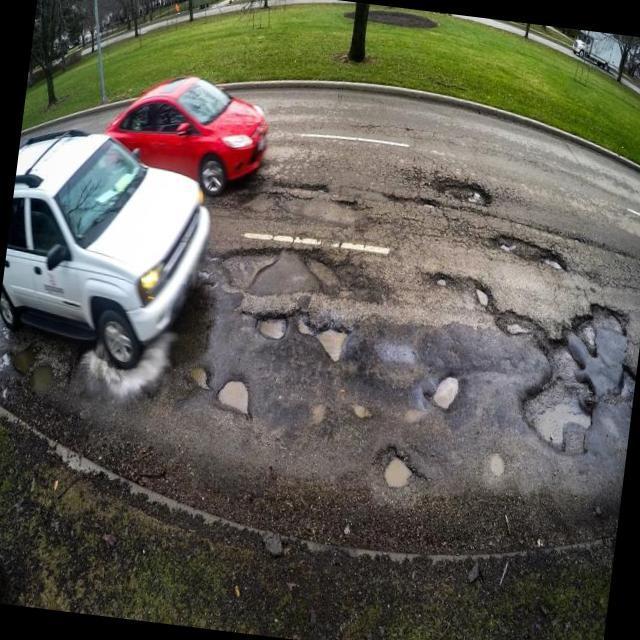Pothole: (492, 310, 635, 452), (227, 231, 348, 359), (402, 337, 468, 422), (491, 229, 569, 284), (82, 349, 139, 396), (426, 174, 488, 205), (12, 347, 53, 391), (375, 335, 417, 368), (219, 380, 249, 414), (385, 452, 414, 486), (461, 280, 493, 310), (429, 271, 456, 288), (490, 452, 505, 475), (192, 366, 206, 385), (355, 405, 369, 416)
